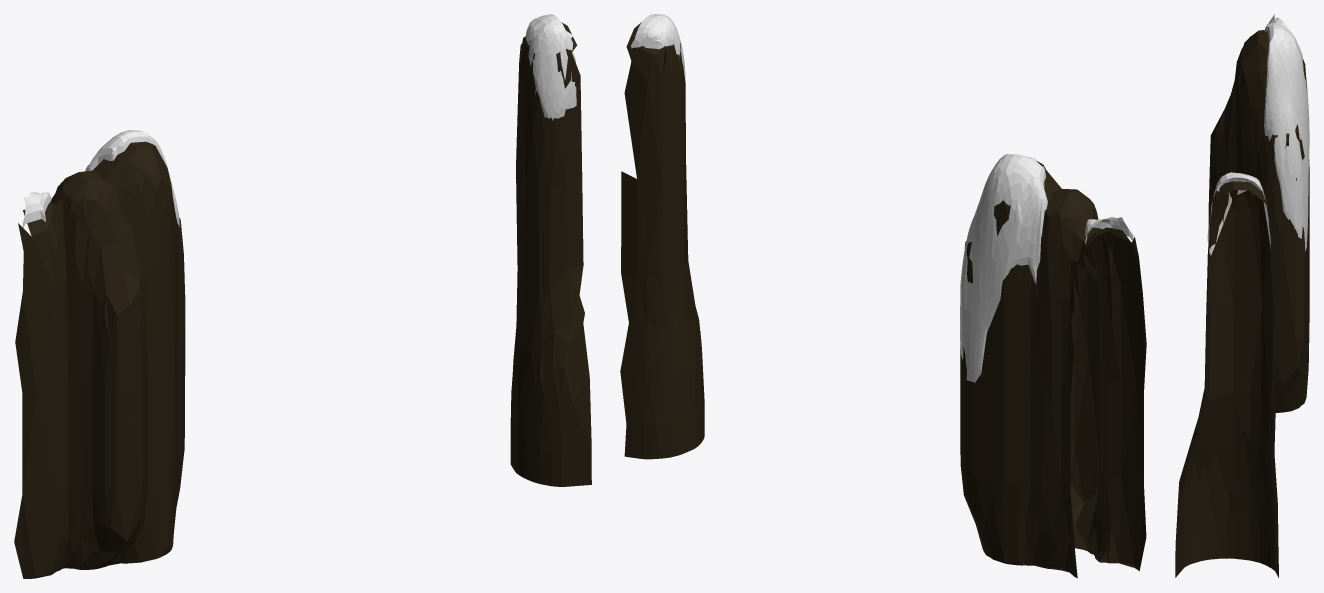
Rendered from Mtn_Wall_S3_M.fbx.
The picture shows the model from 3 angles, left to right: view 1: azimuth 30°, elevation 25°; view 2: azimuth 150°, elevation 25°; view 3: azimuth 270°, elevation 25°; orthographic projection. The views are drawn at different scales.
Visible parts, largest first — view 1: Mtn_Wall_S3_M; view 2: Mtn_Wall_S3_M; view 3: Mtn_Wall_S3_M.
Boxes of the visible parts, x1,y1,x2,y2 form: Mtn_Wall_S3_M: (14, 14, 591, 578); Mtn_Wall_S3_M: (620, 14, 1146, 578); Mtn_Wall_S3_M: (1175, 14, 1309, 577).
Bounding box in the file's own units: 18467 × 14485 × 4397.
